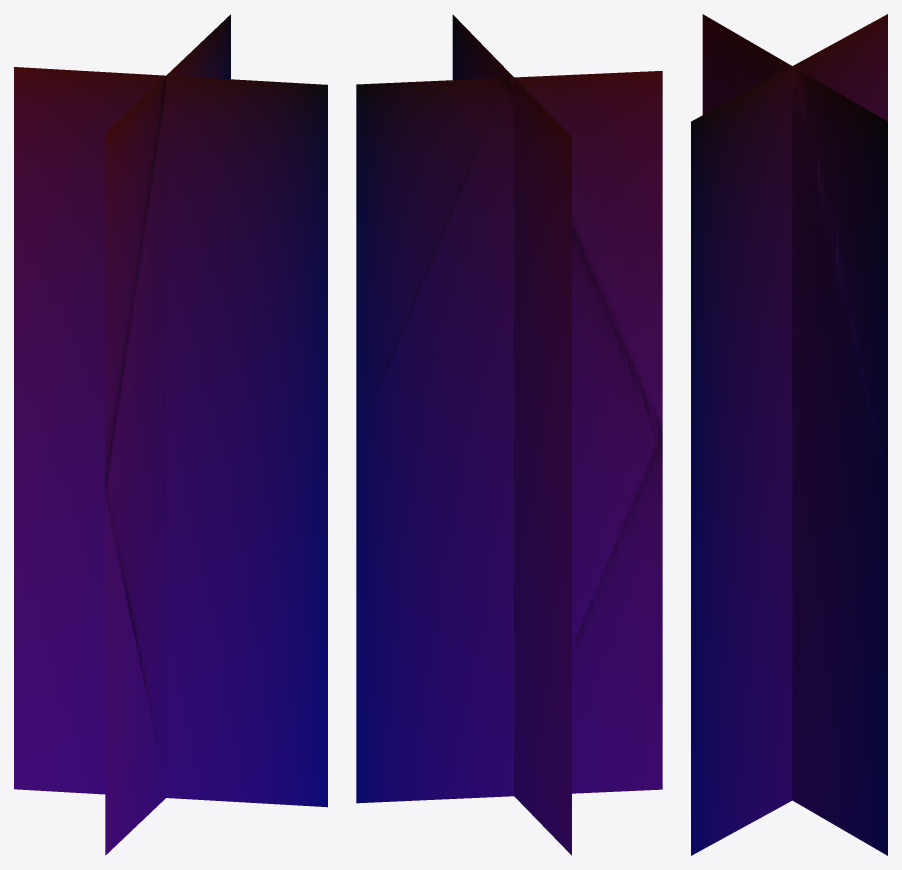
Rendered from model_2CBF.glb.
The picture shows the model from 3 angles, left to right: view 1: azimuth 30°, elevation 25°; view 2: azimuth 150°, elevation 25°; view 3: azimuth 270°, elevation 25°; orthographic projection. The views are drawn at different scales.
Parts seen in each view (by area): view 1: part; view 2: part; view 3: part.
Boxes of the visible parts, x1,y1,x2,y2 form: part: [14, 14, 327, 855]; part: [356, 14, 662, 855]; part: [691, 14, 887, 855].
Bounding box in the file's own units: 2838 × 9030 × 2193.
